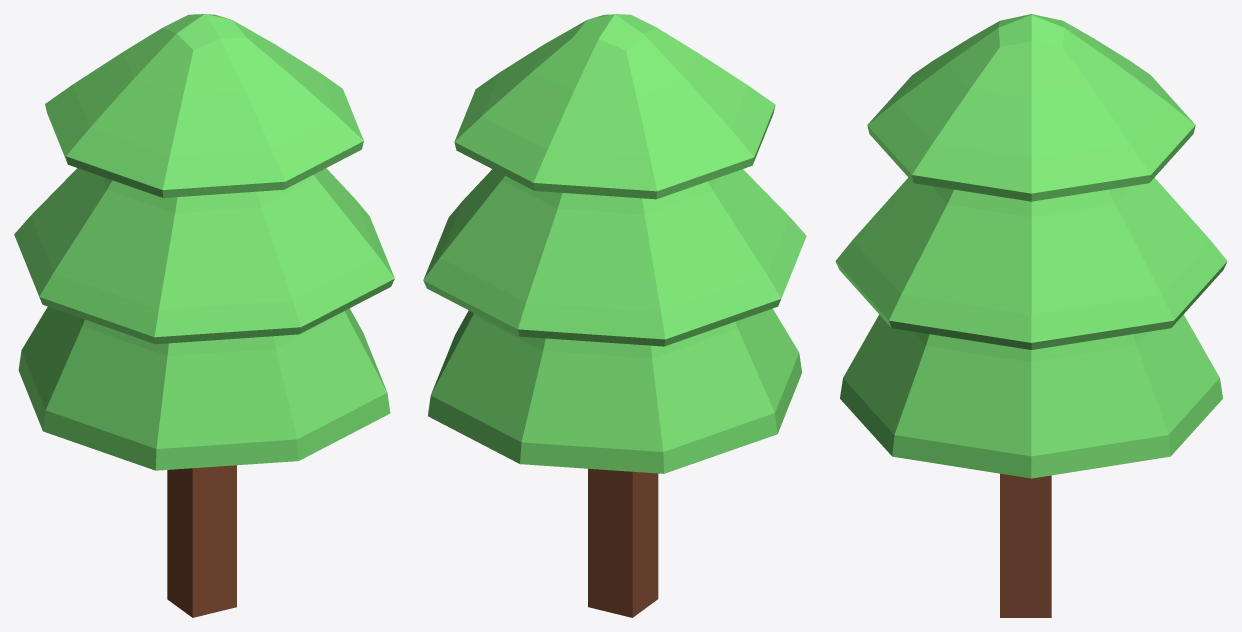
Rendered from Pino.fbx.
3 views of the same model, side by side, from view 1: azimuth 30°, elevation 25°; view 2: azimuth 150°, elevation 25°; view 3: azimuth 270°, elevation 25° (orthographic).
Parts seen in each view (by area): view 1: Cube.005, Cube.006; view 2: Cube.005, Cube.006; view 3: Cube.005, Cube.006.
Part boxes in pixels (left/top/right/bottom): Cube.005: left=14, top=14, right=394, bottom=470; Cube.006: left=167, top=465, right=236, bottom=617; Cube.005: left=423, top=14, right=806, bottom=473; Cube.006: left=588, top=468, right=658, bottom=617; Cube.005: left=835, top=14, right=1227, bottom=478; Cube.006: left=1000, top=473, right=1051, bottom=617.
Bounding box in the file's own units: 207 × 351 × 210.
